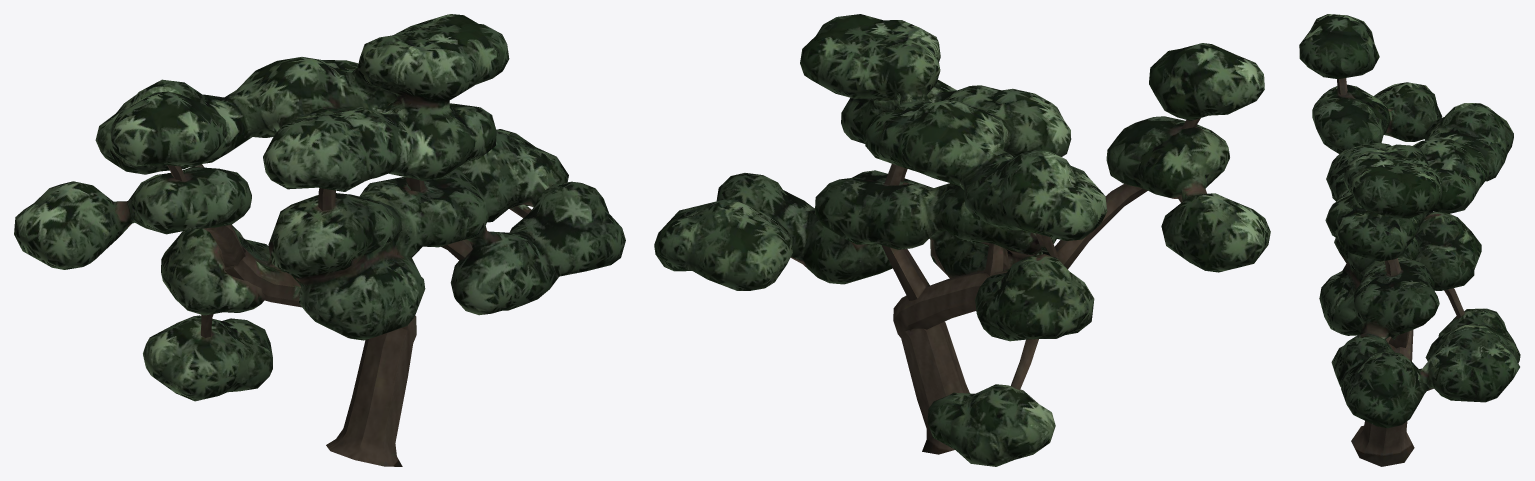
The model's file is pine_a.glb.
3 renders of one model, left to right at view 1: azimuth 30°, elevation 25°; view 2: azimuth 150°, elevation 25°; view 3: azimuth 270°, elevation 25°, orthographic. The views are drawn at different scales.
Visible parts, largest first — view 1: pine_a_lod0; view 2: pine_a_lod0; view 3: pine_a_lod0.
Boxes of the visible parts, x1=… form: pine_a_lod0: x1=14, y1=14, x2=625, y2=466; pine_a_lod0: x1=654, y1=14, x2=1270, y2=466; pine_a_lod0: x1=1299, y1=14, x2=1520, y2=466.
Bounding box in the file's own units: 4.05 × 2.97 × 1.7.
1 material, 1 textured.
